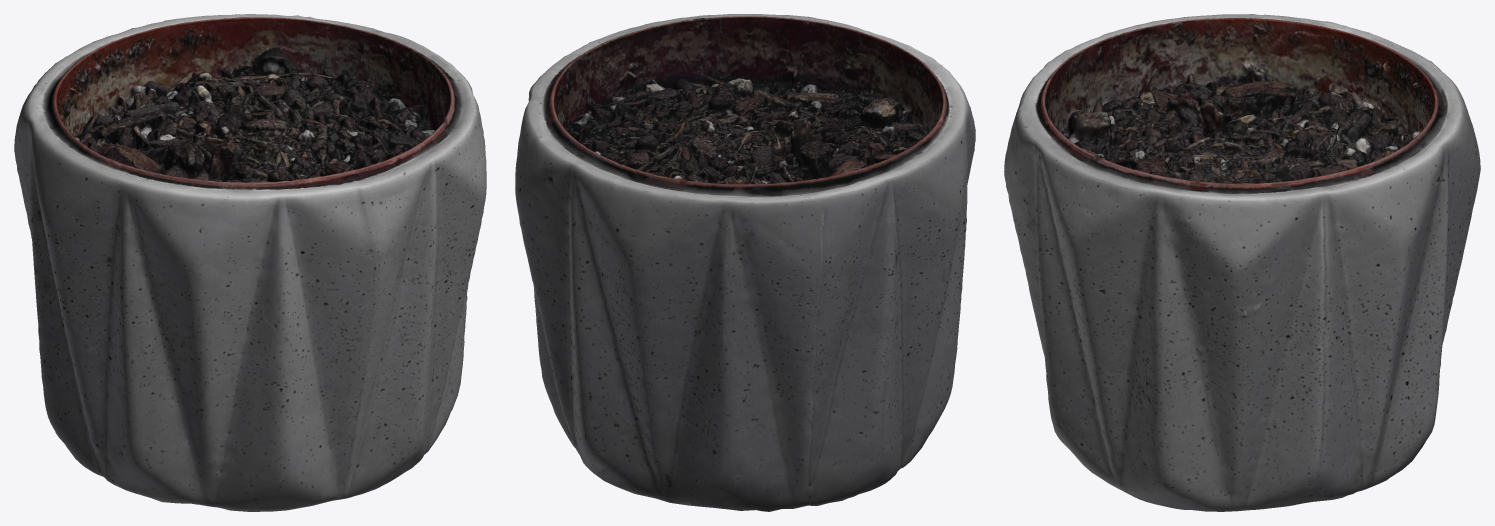
The model's file is vaso-past.glb.
3 views of the same model, side by side, from view 1: azimuth 30°, elevation 25°; view 2: azimuth 150°, elevation 25°; view 3: azimuth 270°, elevation 25° (orthographic).
Parts seen in each view (by area): view 1: Polygonal Vase Photogrametry; view 2: Polygonal Vase Photogrametry; view 3: Polygonal Vase Photogrametry.
Part boxes in pixels (box(x1,y1,x2,y2)): Polygonal Vase Photogrametry: box(14, 14, 486, 511); Polygonal Vase Photogrametry: box(515, 14, 975, 511); Polygonal Vase Photogrametry: box(1004, 14, 1480, 511).
Size of the model in its own units: 0.1469 by 0.1165 by 0.1461.
1 material, 1 textured.
